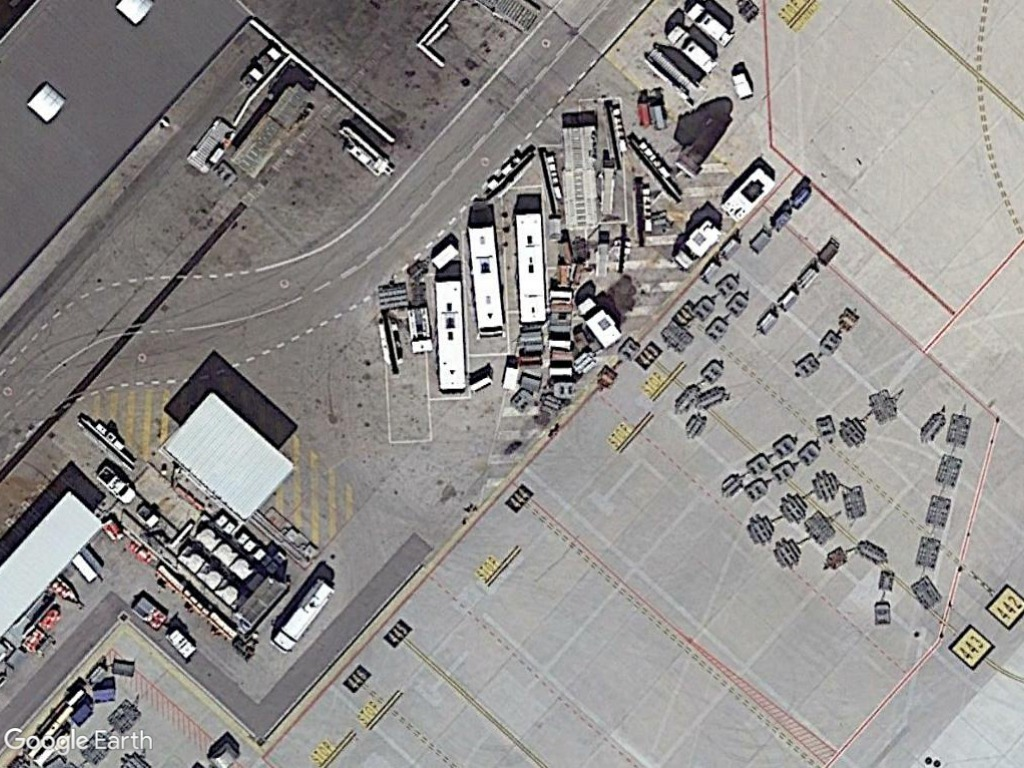bus: (432, 273, 475, 400), (464, 216, 507, 341), (513, 207, 552, 332)
other: (671, 216, 727, 274), (89, 460, 140, 507)
stairtruck: (639, 41, 708, 108)
van: (270, 577, 337, 657)
